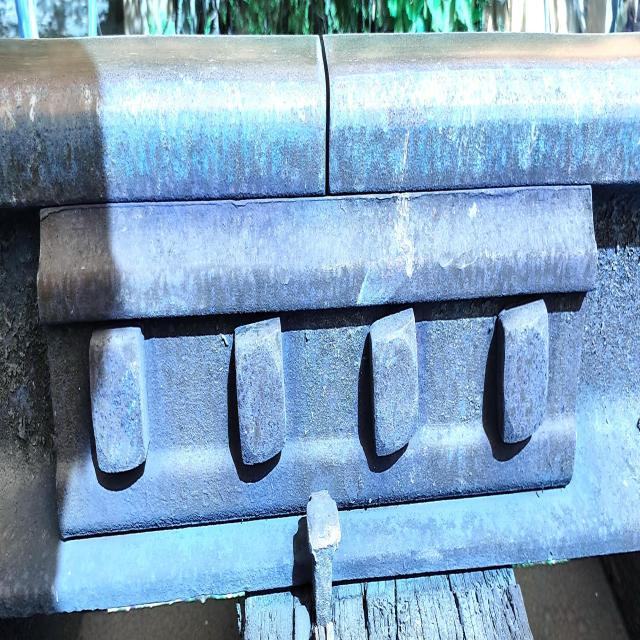Good Joint: (38, 192, 599, 541)
